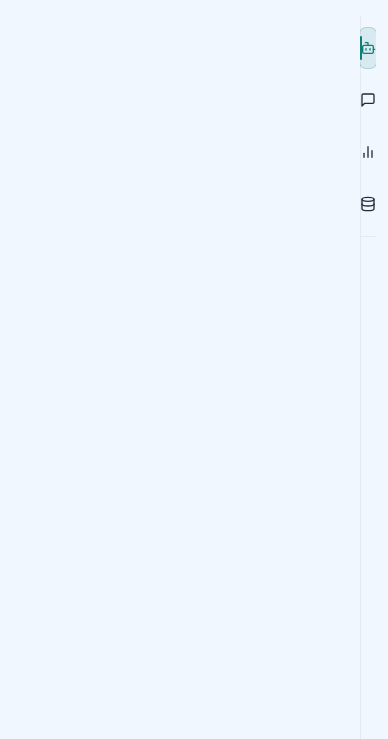
Test: ResizableRightSidebar › renders the general assistant when no client id is present
The width and height of the screenshot is (388, 739).
Click the button named "Åpne AI-Revy Chat" at x=368, y=48, box [360, 28, 376, 68]
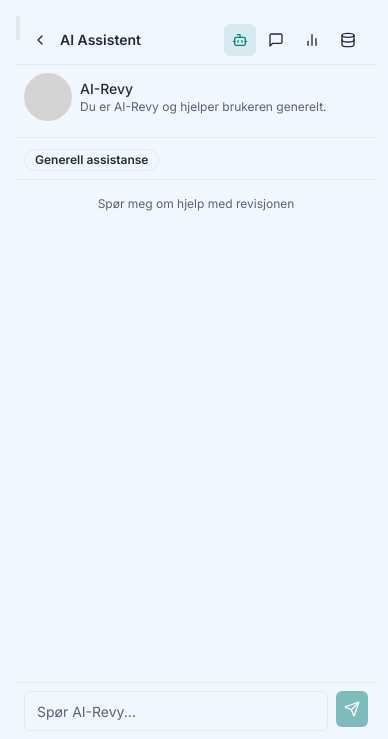
Check: the heading "AI Assistent" is shown, box [60, 30, 141, 50]
